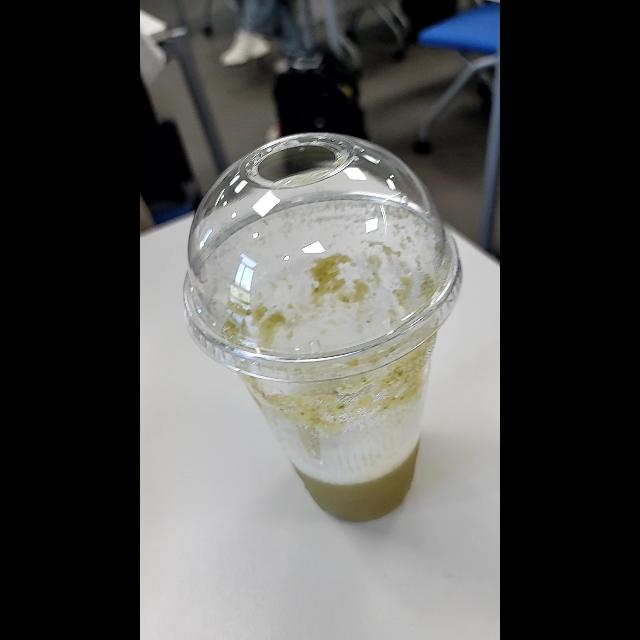plastic_cup: (175, 112, 463, 534)
plastic_cup_lid: (178, 129, 468, 385)
